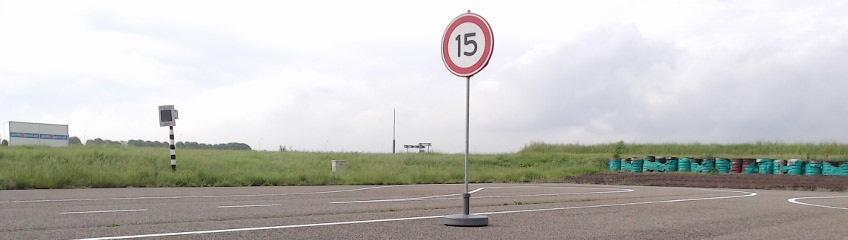Speed-limit-15km-h-: (441, 13, 494, 77)
